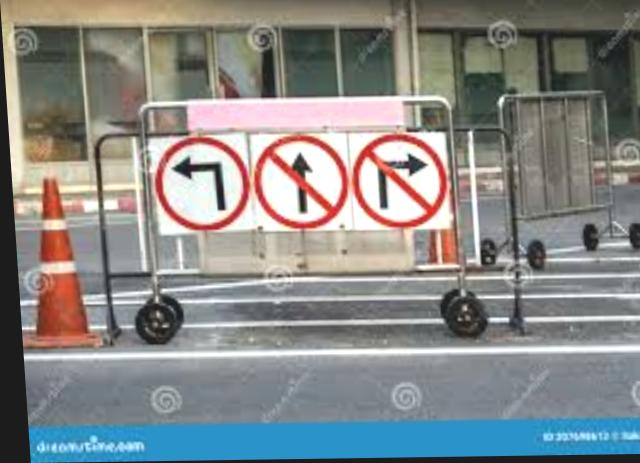not_go_straight: (249, 134, 352, 231)
not_turn_right: (350, 133, 447, 228)
